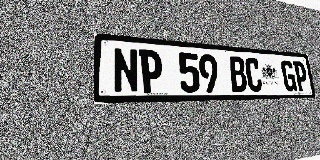5: (178, 52, 201, 93)
9: (198, 54, 220, 92)
B: (228, 56, 248, 92)
C: (244, 57, 263, 92)
G: (280, 60, 297, 91)
N: (113, 47, 139, 93)
P: (139, 49, 164, 93), (293, 61, 309, 91)
